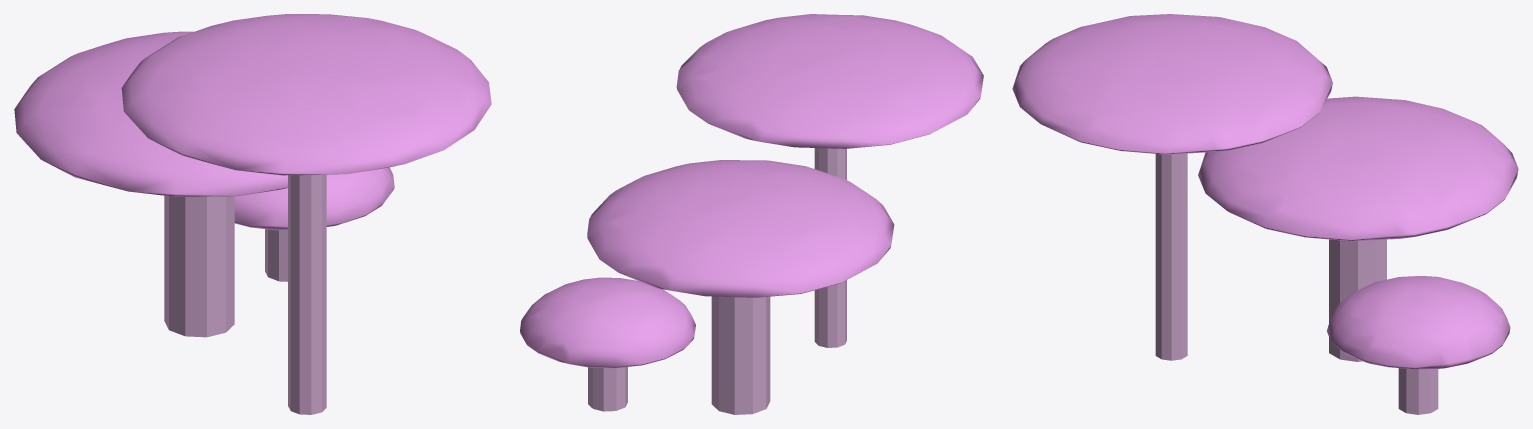
File: Mushrooms_Purple.fbx
The picture shows the model from 3 angles, left to right: view 1: azimuth 30°, elevation 25°; view 2: azimuth 150°, elevation 25°; view 3: azimuth 270°, elevation 25°; orthographic projection. The views are drawn at different scales.
Visible parts, largest first — view 1: pSphere3, pSphere1, pCylinder1, pCylinder3, pSphere2, pCylinder2; view 2: pSphere1, pSphere3, pSphere2, pCylinder1, pCylinder3, pCylinder2; view 3: pSphere3, pSphere1, pSphere2, pCylinder3, pCylinder1, pCylinder2.
Part boxes in pixels (left/top/right/bottom): pSphere3: left=121, top=14, right=491, bottom=175; pSphere1: left=14, top=31, right=327, bottom=196; pCylinder1: left=164, top=195, right=234, bottom=337; pCylinder3: left=288, top=174, right=326, bottom=414; pSphere2: left=234, top=167, right=394, bottom=230; pCylinder2: left=265, top=229, right=287, bottom=281; pSphere1: left=587, top=160, right=894, bottom=297; pSphere3: left=676, top=14, right=983, bottom=148; pSphere2: left=520, top=277, right=695, bottom=368; pCylinder1: left=711, top=296, right=770, bottom=414; pCylinder3: left=814, top=148, right=846, bottom=347; pCylinder2: left=588, top=367, right=627, bottom=411; pSphere3: left=1012, top=14, right=1332, bottom=154; pSphere1: left=1198, top=96, right=1518, bottom=241; pSphere2: left=1327, top=276, right=1510, bottom=369; pCylinder3: left=1155, top=153, right=1187, bottom=360; pCylinder1: left=1329, top=239, right=1386, bottom=361; pCylinder2: left=1398, top=368, right=1438, bottom=414.
Bounding box in the file's own units: 12.51 × 10.9 × 16.8.
